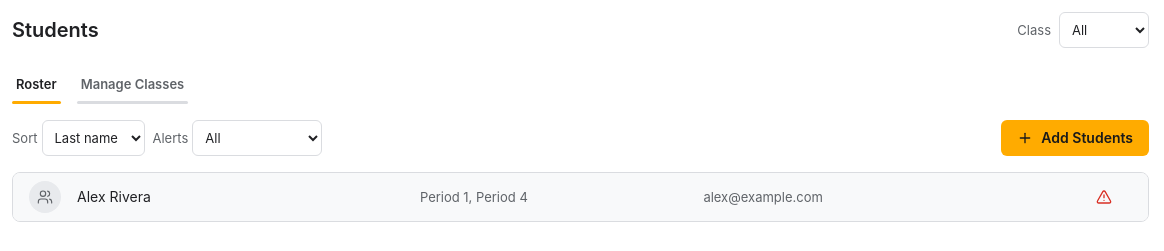
Scenario: StudentsPage › scopes an alert to the chosen class rather than to the student
Check: the text "Alex Rivera" is shown, box [77,188,151,205]
Select "Academic risk" in the dropdown named "Filter by alert" at (257, 138), box [192,120,322,156]
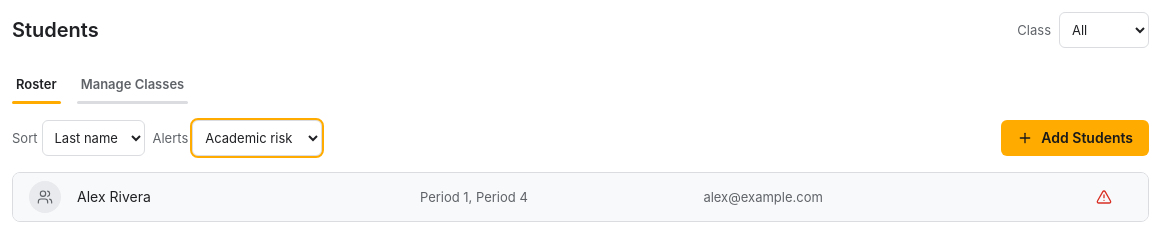
Select "Period 4" in the dropdown named "Filter by class" at (1104, 30), box [1059,12,1149,48]
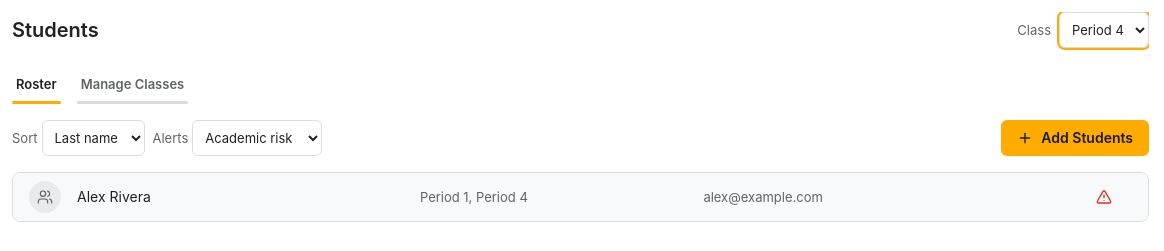
Check: the text "Alex Rivera" is shown, box [77,188,151,205]
Select "Period 1" in the dropdown named "Filter by class" at (1104, 30), box [1059,12,1149,48]
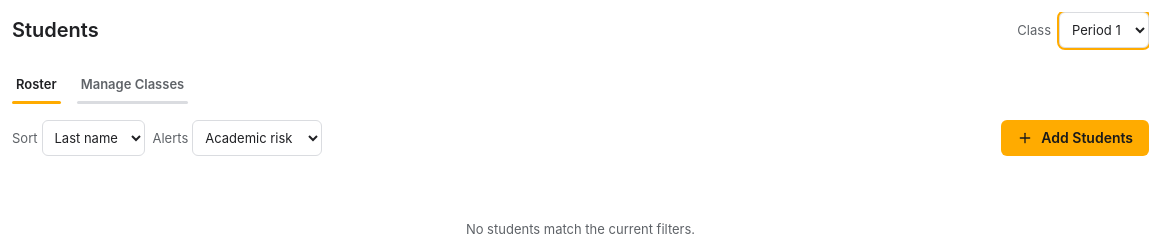
Check: the button "Alex Rivera" is gone
